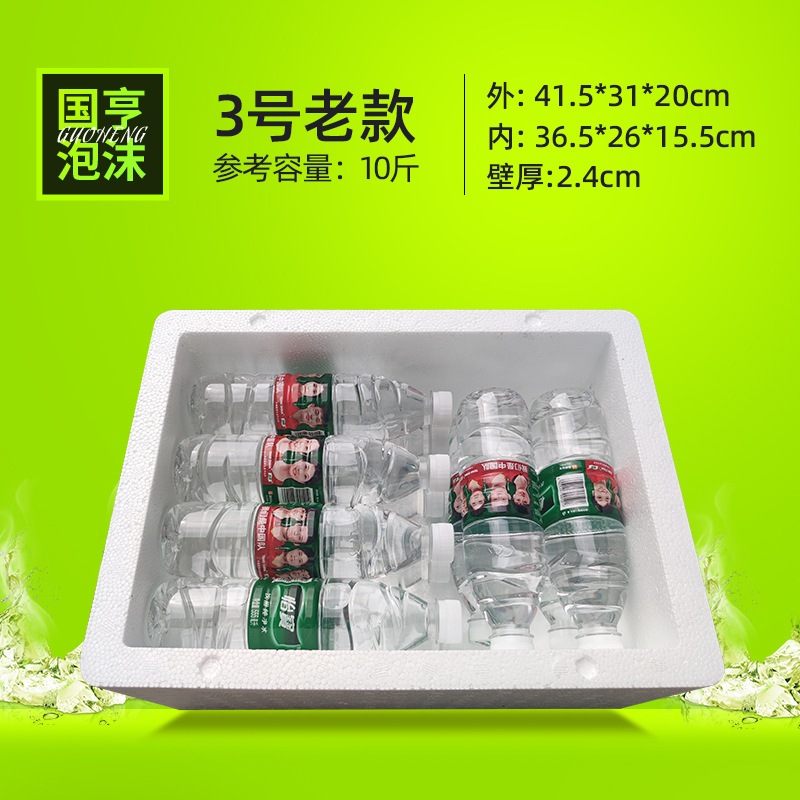泡沫箱: (82, 310, 722, 709)
